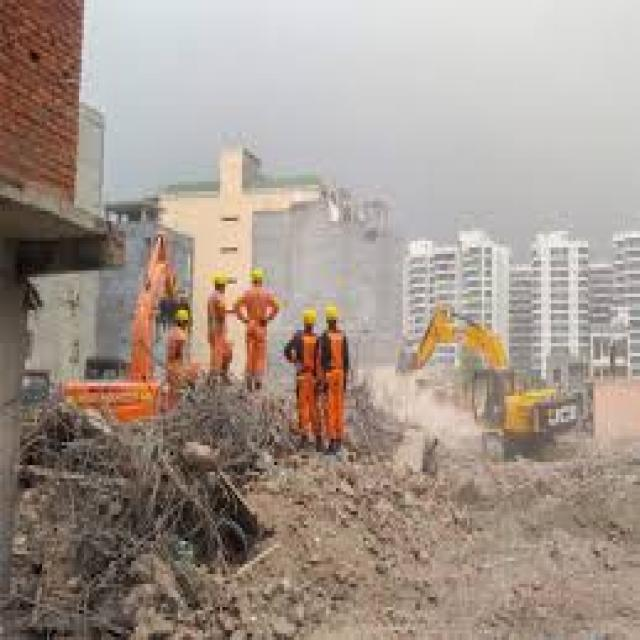Reflective-Jacket: (319, 330, 348, 389), (294, 330, 319, 376)
Safety-Helmet: (171, 300, 195, 327), (299, 303, 319, 330), (324, 300, 344, 324)
